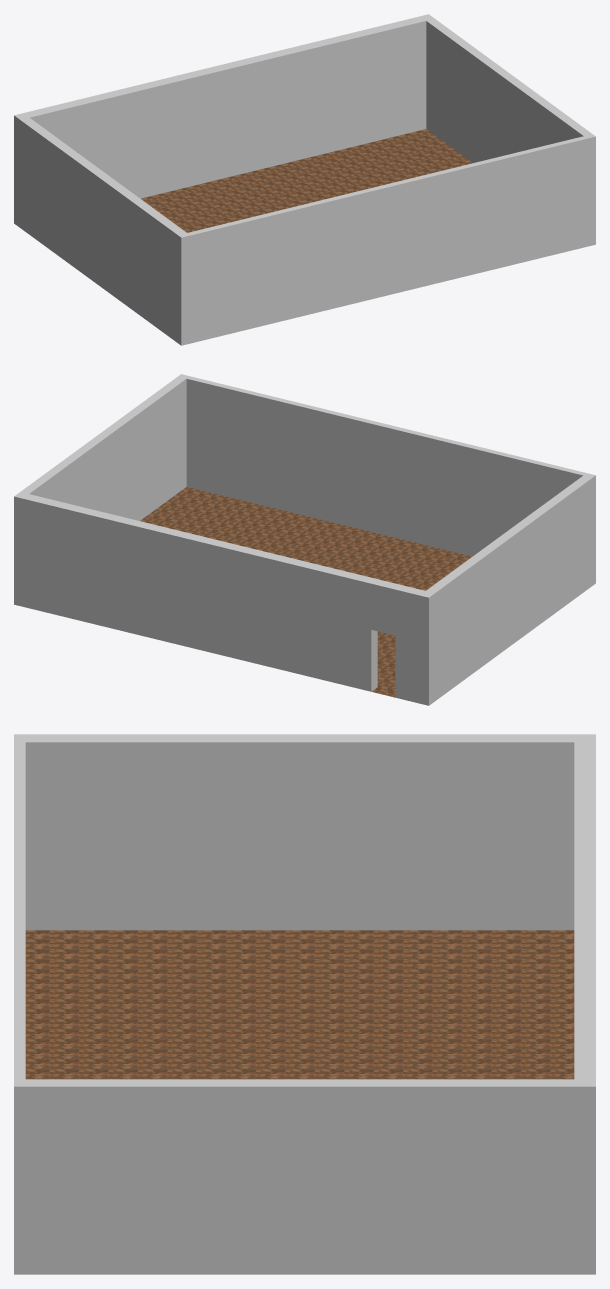
File: classroomR_no_windows.fbx
The picture shows the model from 3 angles, top to bottom: view 1: azimuth 30°, elevation 25°; view 2: azimuth 150°, elevation 25°; view 3: azimuth 270°, elevation 25°; orthographic projection. The views are drawn at different scales.
Visible parts, largest first — view 1: Classroom 1.019; view 2: Classroom 1.019; view 3: Classroom 1.019.
Boxes of the visible parts, left/top/right/bottom form: Classroom 1.019: left=14, top=14, right=595, bottom=345; Classroom 1.019: left=14, top=374, right=595, bottom=705; Classroom 1.019: left=14, top=734, right=595, bottom=1274.
Bounding box in the file's own units: 2732 × 680 × 1907.
